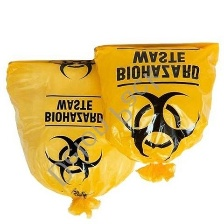plastic_bag: (0, 58, 149, 221), (86, 37, 224, 188)
